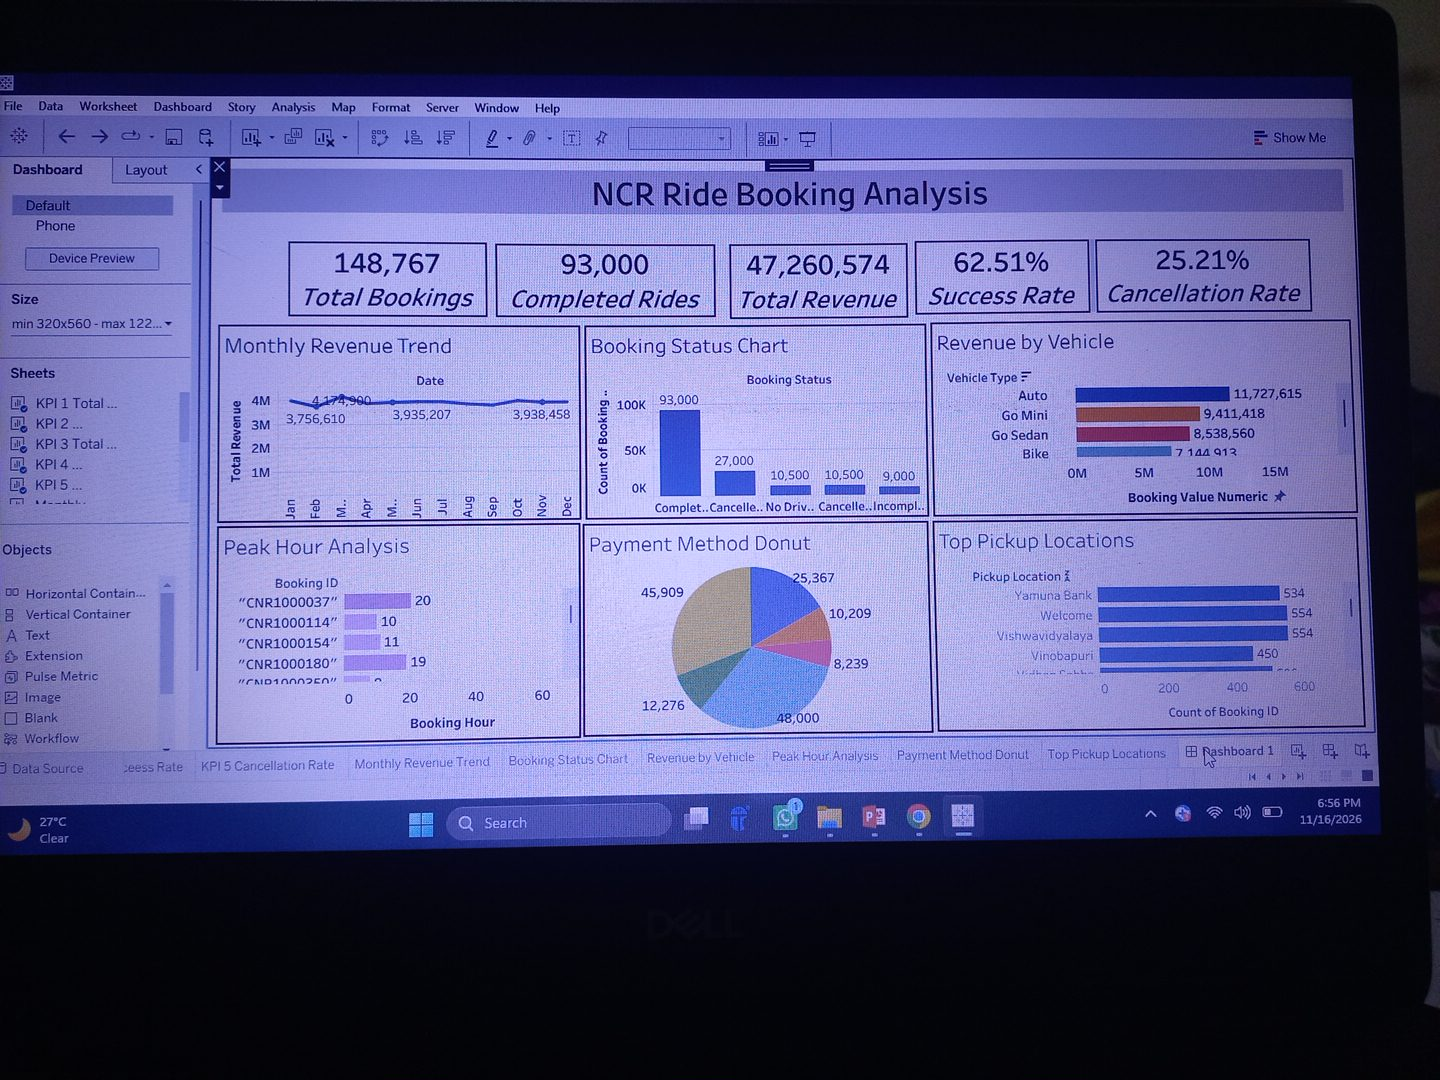

Layout of this report page (visuals, bound fields, positions):
{"tool":"tableau","page":{"name":"Dashboard 1","canvas":[1000,1000],"units":"permille","ordinal":0},"visuals":[{"type":"title","box":[6.9,13.7,986.1,89]},{"type":"worksheet","title":"KPI 4 Suceess Rate","mark":"Automatic","box":[607.8,142.1,175.8,130.1]},{"type":"worksheet","title":"KPI 5 Cancellation Rate","mark":"Automatic","box":[766.2,142.1,192.2,279.1]},{"type":"worksheet","title":"KPI 1 Total Bookings","mark":"Automatic","box":[65.8,143.8,184.4,150.7]},{"type":"worksheet","title":"KPI 2 Completed Rides","mark":"Automatic","box":[241.6,145.6,221.7,154.1]},{"type":"worksheet","title":"KPI 3 Total Revenue","mark":"Automatic","box":[445,145.6,168.8,169.5]},{"type":"worksheet","title":"Revenue by Vehicle","mark":"Bar","rows":["Vehicle Type"],"cols":["Calculation_1390935113150464"],"box":[621.6,286,370.6,337.3]},{"type":"worksheet","title":"Monthly Revenue Trend","mark":"Line","rows":["Calculation_0835406780223490"],"cols":["Date"],"box":[7.8,287.7,307.4,335.6]},{"type":"worksheet","title":"Booking Status Chart","mark":"Bar","rows":["Booking ID"],"cols":["Booking Status"],"box":[318.6,287.7,299.6,335.6]},{"type":"worksheet","title":"Peak Hour Analysis","mark":"Bar","rows":["Booking ID"],"cols":["Calculation_1473123836555264"],"box":[7.8,628.4,306.6,364.7]},{"type":"worksheet","title":"Payment Method Donut","mark":"Pie","box":[316,630.1,301.3,361.3]},{"type":"worksheet","title":"Top Pickup Locations","mark":"Automatic","rows":["Pickup Location"],"cols":["Booking ID"],"box":[620.8,630.1,370.6,359.6]}]}

Visuals, with their boxes on the dashboard's canvas, which has no fixed pixel size, in thousandths of its width and height (x1, y1, x2, y2). These are canvas units, not pixel positions in the 1440x1080 screenshot, which may show the page scaled, cropped or inside an application window:
title: x1=7, y1=14, x2=993, y2=103
"KPI 4 Suceess Rate" worksheet: x1=608, y1=142, x2=784, y2=272
"KPI 5 Cancellation Rate" worksheet: x1=766, y1=142, x2=958, y2=421
"KPI 1 Total Bookings" worksheet: x1=66, y1=144, x2=250, y2=294
"KPI 2 Completed Rides" worksheet: x1=242, y1=146, x2=463, y2=300
"KPI 3 Total Revenue" worksheet: x1=445, y1=146, x2=614, y2=315
"Revenue by Vehicle" worksheet (Bar marks): x1=622, y1=286, x2=992, y2=623
"Monthly Revenue Trend" worksheet (Line marks): x1=8, y1=288, x2=315, y2=623
"Booking Status Chart" worksheet (Bar marks): x1=319, y1=288, x2=618, y2=623
"Peak Hour Analysis" worksheet (Bar marks): x1=8, y1=628, x2=314, y2=993
"Payment Method Donut" worksheet (Pie marks): x1=316, y1=630, x2=617, y2=991
"Top Pickup Locations" worksheet: x1=621, y1=630, x2=991, y2=990
